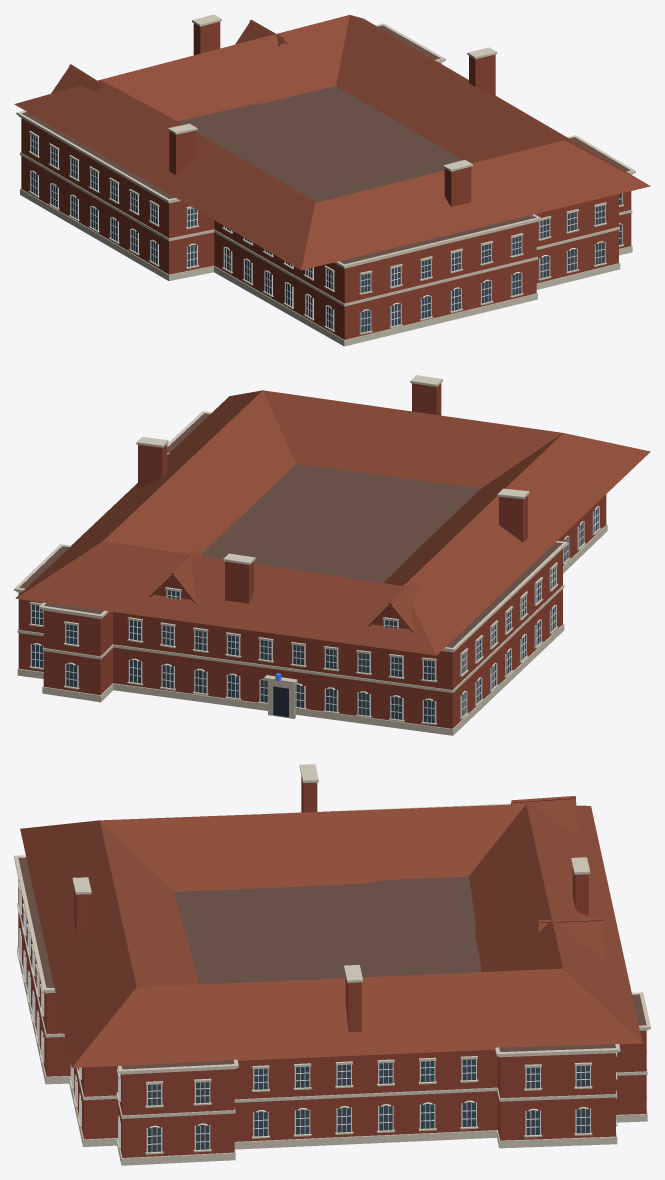
Rendered from hyde_park_police_station.glb.
3 renders of one model, top to bottom at view 1: azimuth 30°, elevation 25°; view 2: azimuth 150°, elevation 25°; view 3: azimuth 270°, elevation 25°, orthographic. The views are drawn at different scales.
Bounding box in the file's own units: 43.77 × 15.34 × 48.24.
